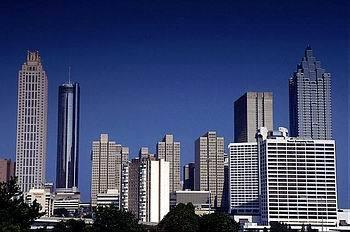building: (227, 128, 350, 232), (16, 48, 48, 218), (132, 131, 181, 232), (56, 64, 84, 218), (290, 40, 332, 139), (92, 132, 129, 232), (195, 130, 227, 210), (235, 92, 275, 142), (177, 189, 212, 219)
